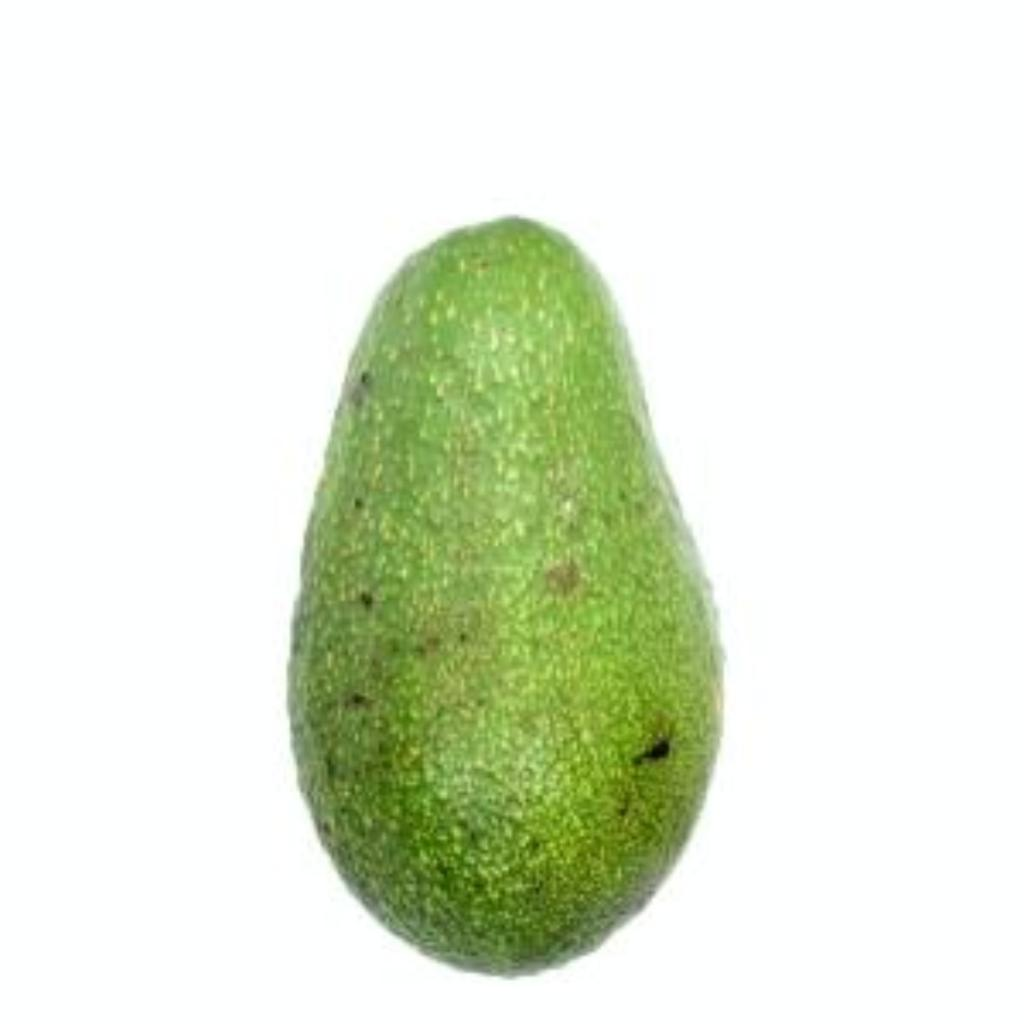cercospora_spot: (264, 192, 736, 992)
